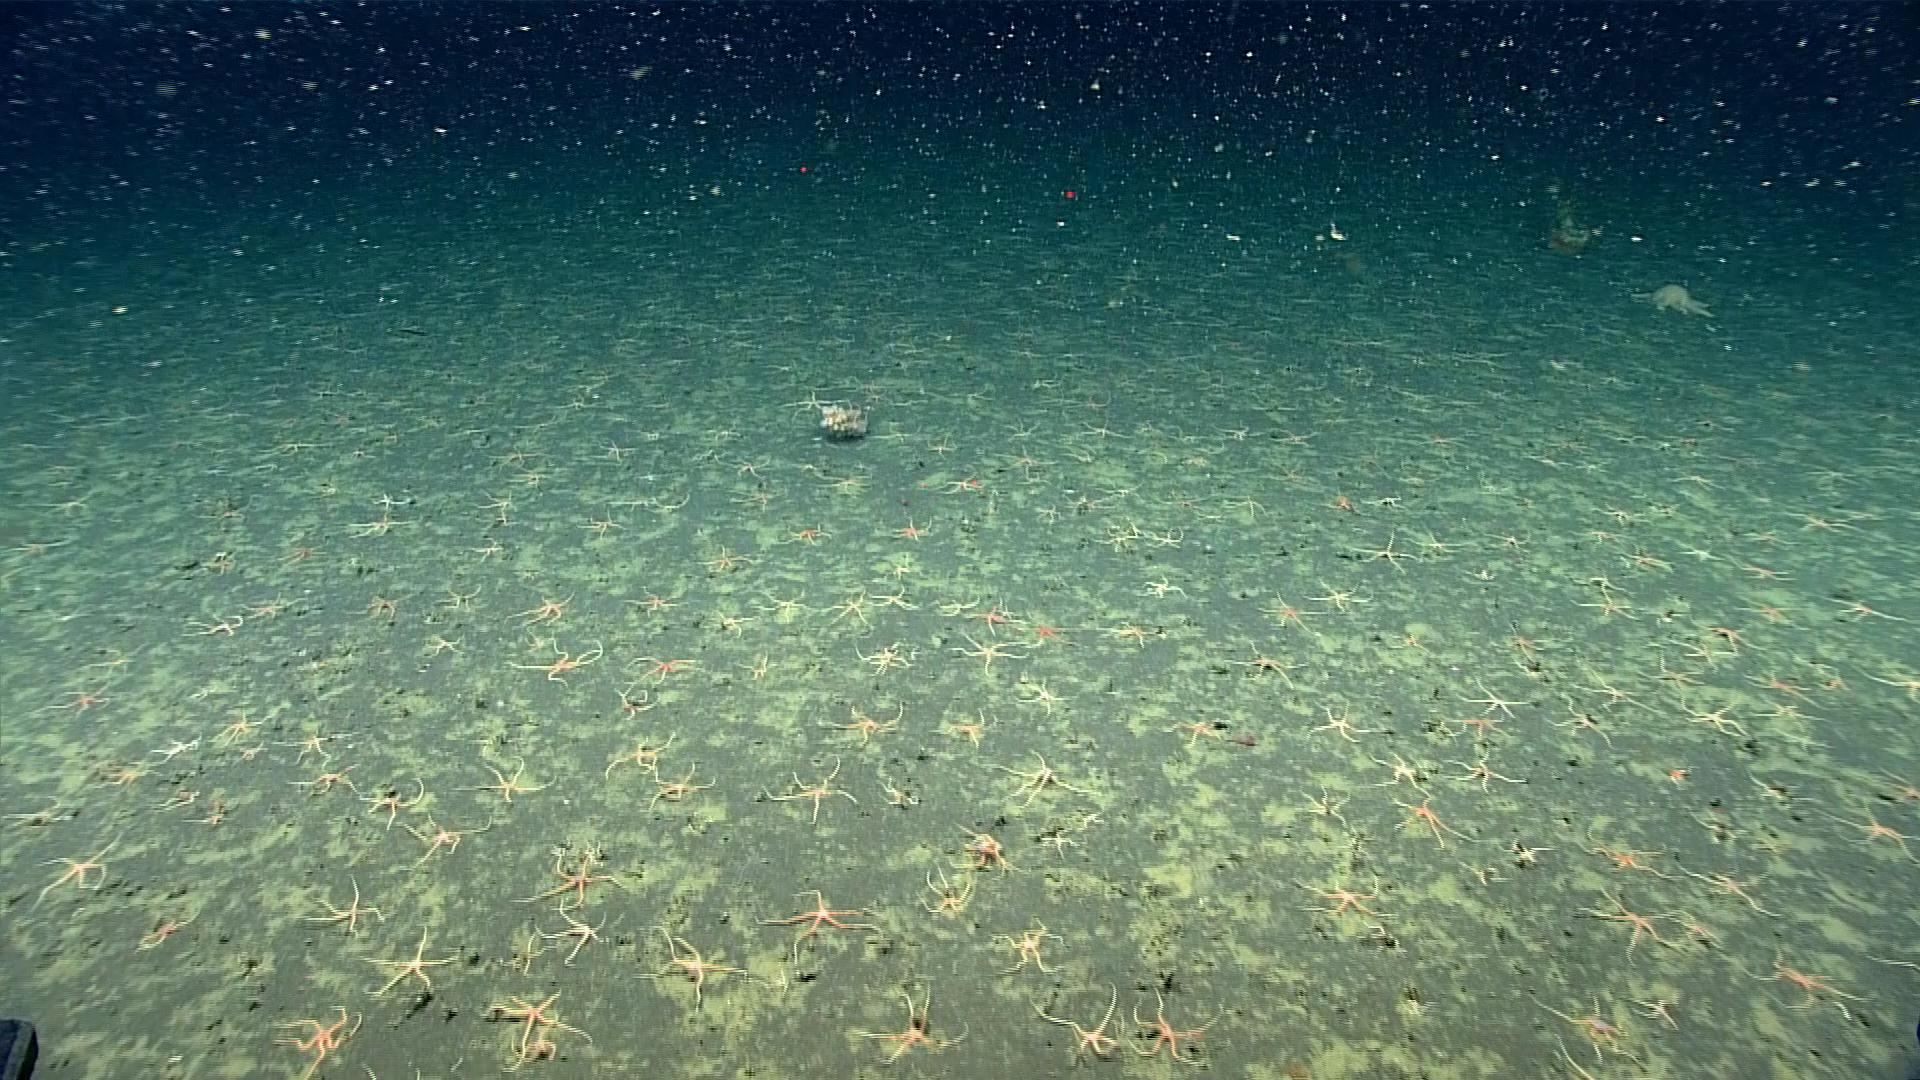brittle_sea_star: (1734, 940, 1869, 1021), (756, 885, 885, 961), (480, 988, 592, 1072), (1575, 886, 1693, 964), (637, 923, 748, 1005), (848, 988, 975, 1058), (28, 828, 128, 913), (1029, 984, 1131, 1062), (355, 930, 464, 1002), (509, 848, 624, 911), (274, 1004, 365, 1079), (766, 754, 860, 825), (1564, 827, 1675, 885), (989, 749, 1093, 810), (1681, 862, 1785, 923), (1130, 988, 1218, 1059), (1836, 799, 1919, 874), (1532, 998, 1630, 1062), (392, 818, 501, 870), (1382, 785, 1473, 848), (508, 636, 611, 691), (458, 754, 550, 810), (305, 872, 385, 935), (533, 895, 605, 965), (1568, 669, 1668, 717), (825, 696, 906, 753), (1224, 644, 1309, 694), (945, 629, 1036, 675), (990, 923, 1065, 978), (640, 761, 720, 812), (1311, 870, 1387, 920), (133, 903, 206, 955), (284, 758, 368, 802), (273, 724, 353, 769), (601, 732, 674, 781), (1367, 746, 1437, 795), (1348, 527, 1418, 576), (1447, 749, 1527, 791), (915, 869, 980, 920), (1303, 699, 1377, 744), (1455, 678, 1532, 720), (363, 779, 427, 828), (1545, 692, 1609, 741), (1569, 584, 1644, 625), (1258, 593, 1324, 638), (1753, 692, 1830, 729), (506, 589, 574, 632), (1826, 597, 1907, 632), (1639, 654, 1705, 695), (625, 651, 703, 686), (814, 587, 870, 633), (1688, 699, 1750, 741), (73, 651, 138, 691), (849, 641, 922, 676), (149, 728, 214, 767), (95, 752, 158, 791), (1305, 580, 1375, 616), (931, 709, 988, 753), (1160, 716, 1232, 750), (1672, 634, 1738, 671), (1013, 676, 1072, 717), (1498, 621, 1553, 665), (212, 708, 270, 745), (967, 827, 1018, 868), (621, 585, 684, 618), (754, 587, 810, 624), (344, 509, 410, 539), (347, 592, 407, 624), (1735, 597, 1801, 626), (1100, 620, 1159, 651), (146, 782, 203, 812), (698, 546, 754, 576), (421, 630, 472, 663), (186, 612, 247, 640), (434, 584, 487, 616), (969, 599, 1014, 636), (477, 487, 524, 522), (613, 680, 654, 720), (578, 506, 626, 539), (869, 583, 920, 613), (1780, 727, 1832, 757), (239, 597, 297, 624), (185, 810, 237, 836), (1141, 525, 1187, 554), (1141, 576, 1188, 604), (281, 541, 332, 566), (889, 517, 934, 545), (931, 595, 982, 618), (232, 741, 270, 773), (1095, 527, 1138, 555), (1627, 551, 1677, 574), (787, 520, 829, 546), (1490, 529, 1528, 553), (1035, 501, 1063, 526)
